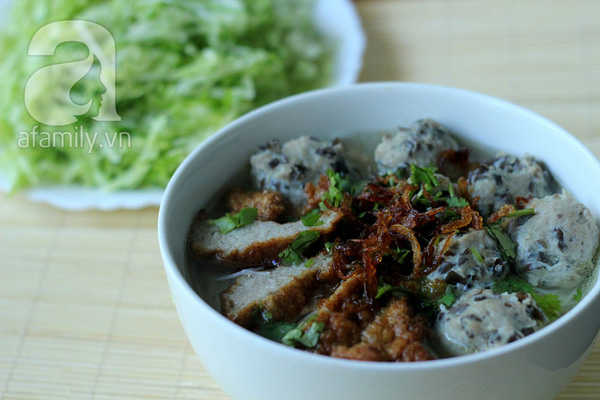chamoc: (516, 198, 600, 284), (438, 282, 535, 347), (250, 131, 343, 196), (375, 119, 461, 173), (472, 151, 548, 210)
onion: (354, 189, 432, 266)
